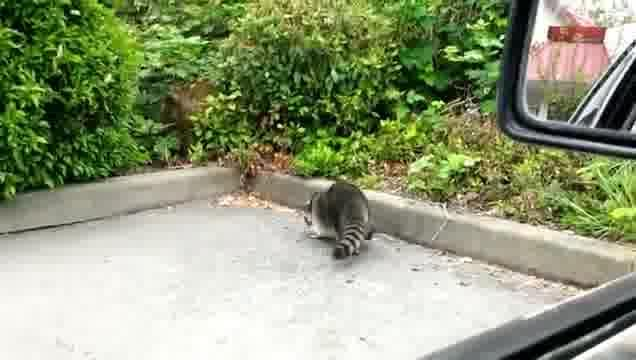raccoon: (303, 177, 380, 262)
